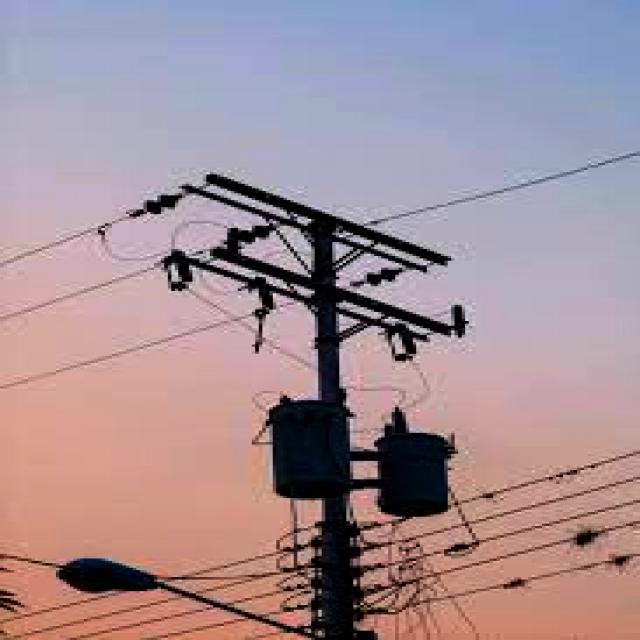crossarm: (161, 251, 430, 361), (206, 226, 462, 340), (182, 186, 430, 287), (204, 173, 451, 267)
pole: (311, 216, 357, 640)
transformer: (266, 396, 353, 503), (374, 410, 455, 521), (266, 400, 353, 503)
wire: (147, 519, 640, 640), (0, 300, 301, 391), (371, 154, 640, 226), (364, 500, 640, 570), (357, 554, 640, 617), (63, 577, 311, 640), (0, 263, 154, 323), (0, 219, 119, 270)
